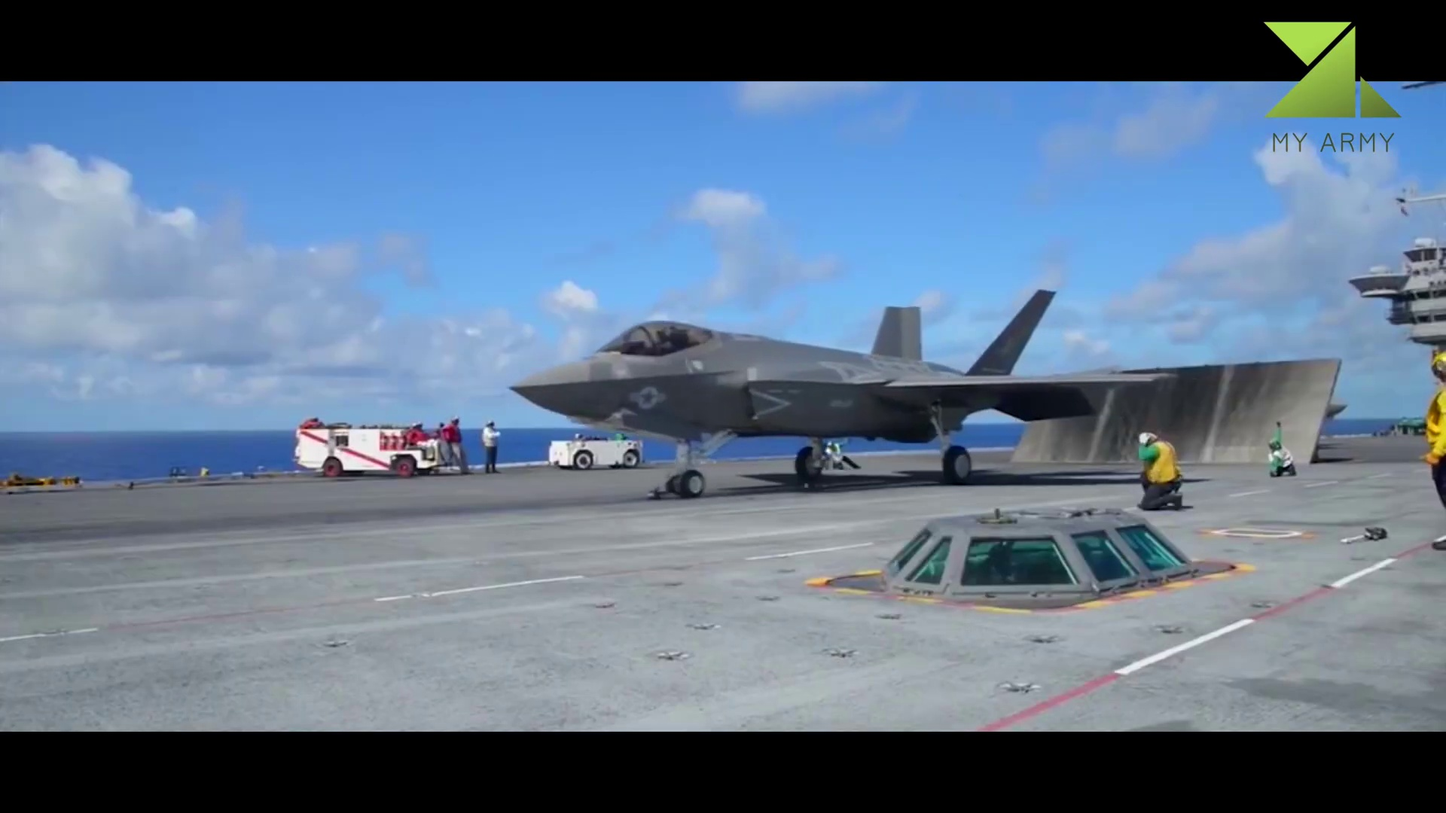F35: (505, 287, 1179, 498)
